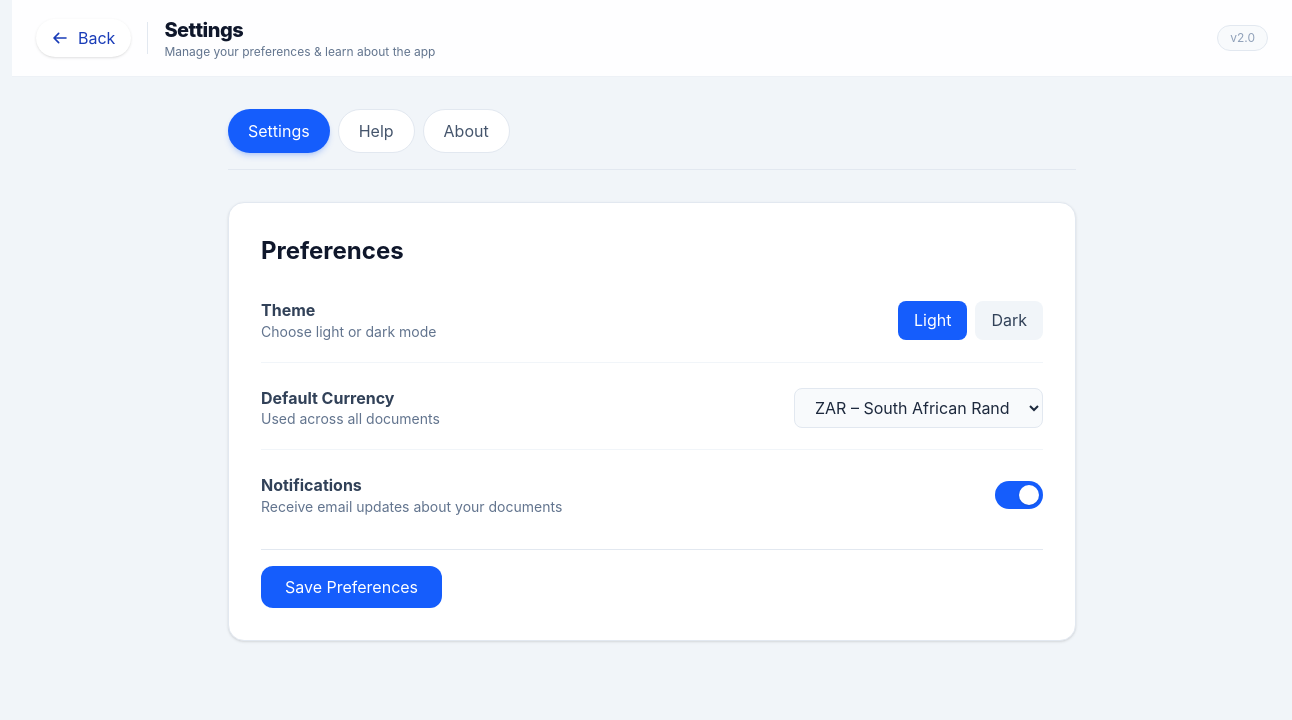
Test: Help panel › navigates to Help when its tab is selected
The width and height of the screenshot is (1292, 720).
Click the button "help" at (376,131), box [338,109,415,153]
(page scrolled)
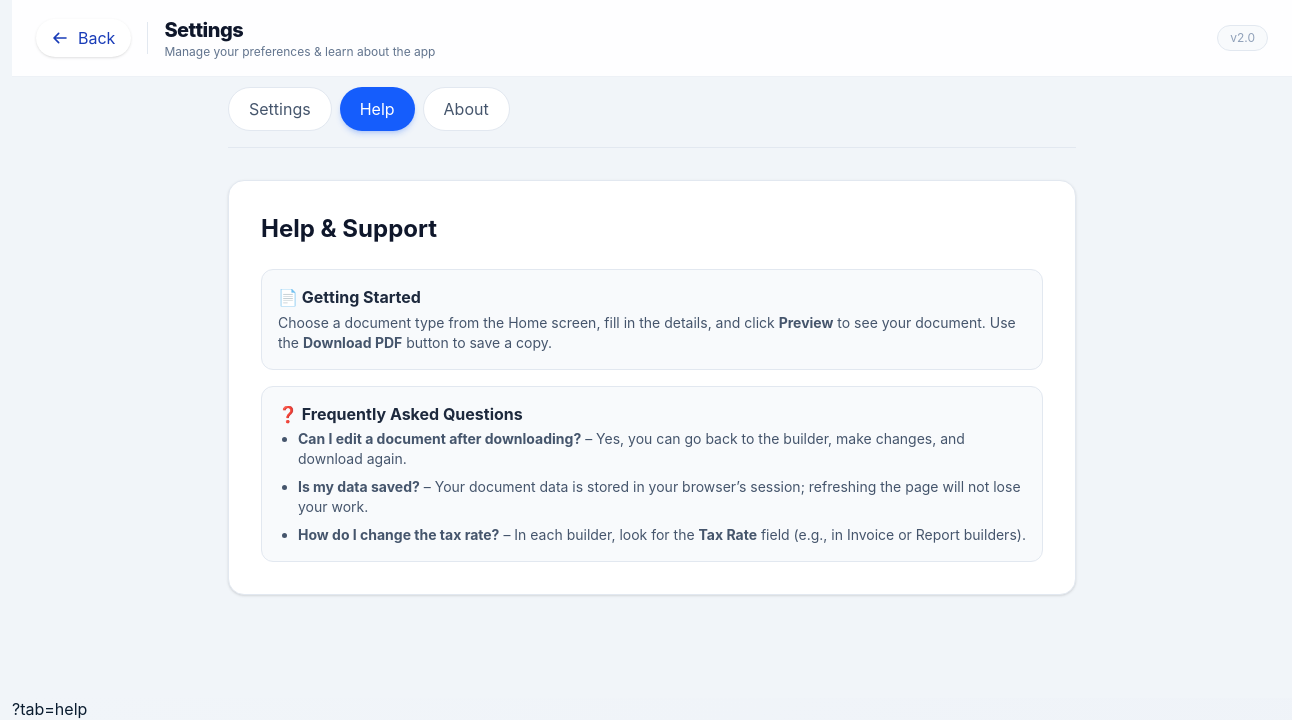
Result: the heading "Help & Support" is shown at [261,214,437,243]
Result: the text with test id "current-search" reads "?tab=help" at [12,699,87,719]
